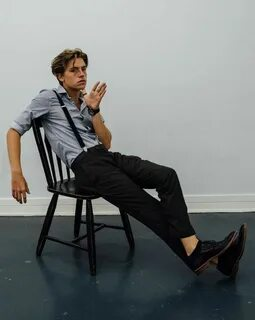awake: (6, 47, 248, 279)
